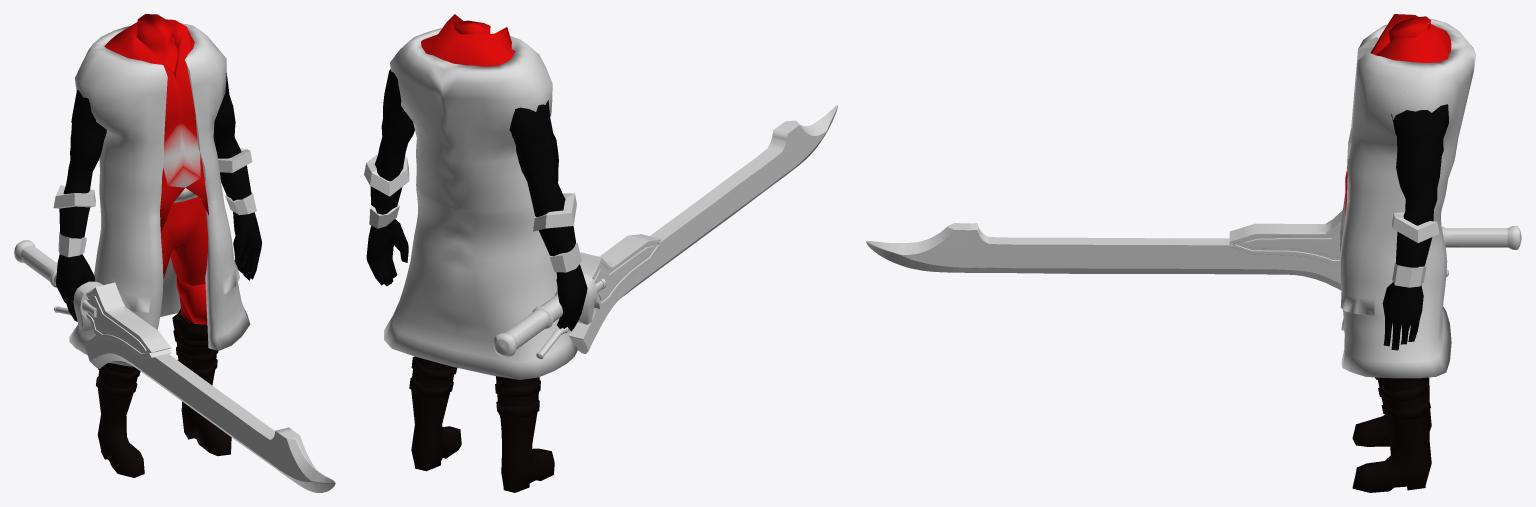
File: VergilEX.fbx
The picture shows the model from 3 angles, left to right: view 1: azimuth 30°, elevation 25°; view 2: azimuth 150°, elevation 25°; view 3: azimuth 270°, elevation 25°; orthographic projection. The views are drawn at different scales.
Visible parts, largest first — view 1: meshNero, meshNeroCoat, meshRedQueen; view 2: meshNeroCoat, meshNero, meshRedQueen; view 3: meshNeroCoat, meshRedQueen, meshNero.
Part boxes in pixels (<box>): meshNero: <box>53,14,262,477</box>; meshNeroCoat: <box>69,23,250,366</box>; meshRedQueen: <box>14,240,335,492</box>; meshNeroCoat: <box>384,28,577,379</box>; meshNero: <box>364,14,587,492</box>; meshRedQueen: <box>493,105,837,359</box>; meshNeroCoat: <box>1340,19,1476,378</box>; meshRedQueen: <box>866,210,1521,290</box>; meshNero: <box>1345,14,1451,492</box>.
Bounding box in the file's own units: 82.29 × 171 × 228.
